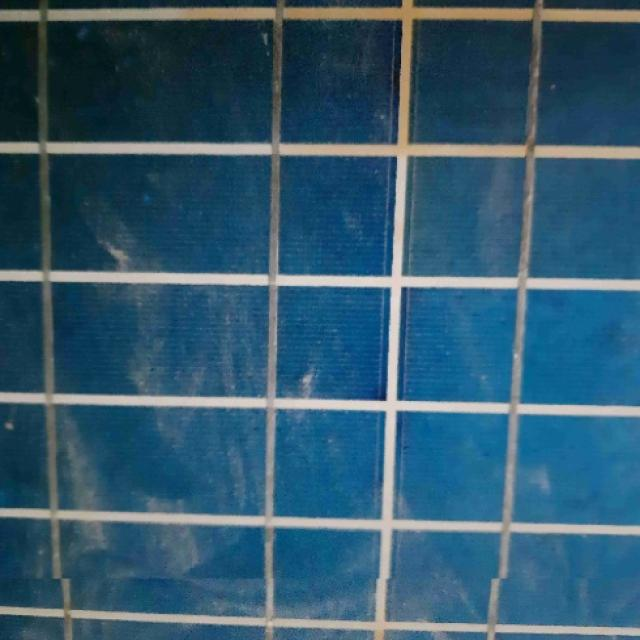Dirty: (0, 0, 640, 579)
